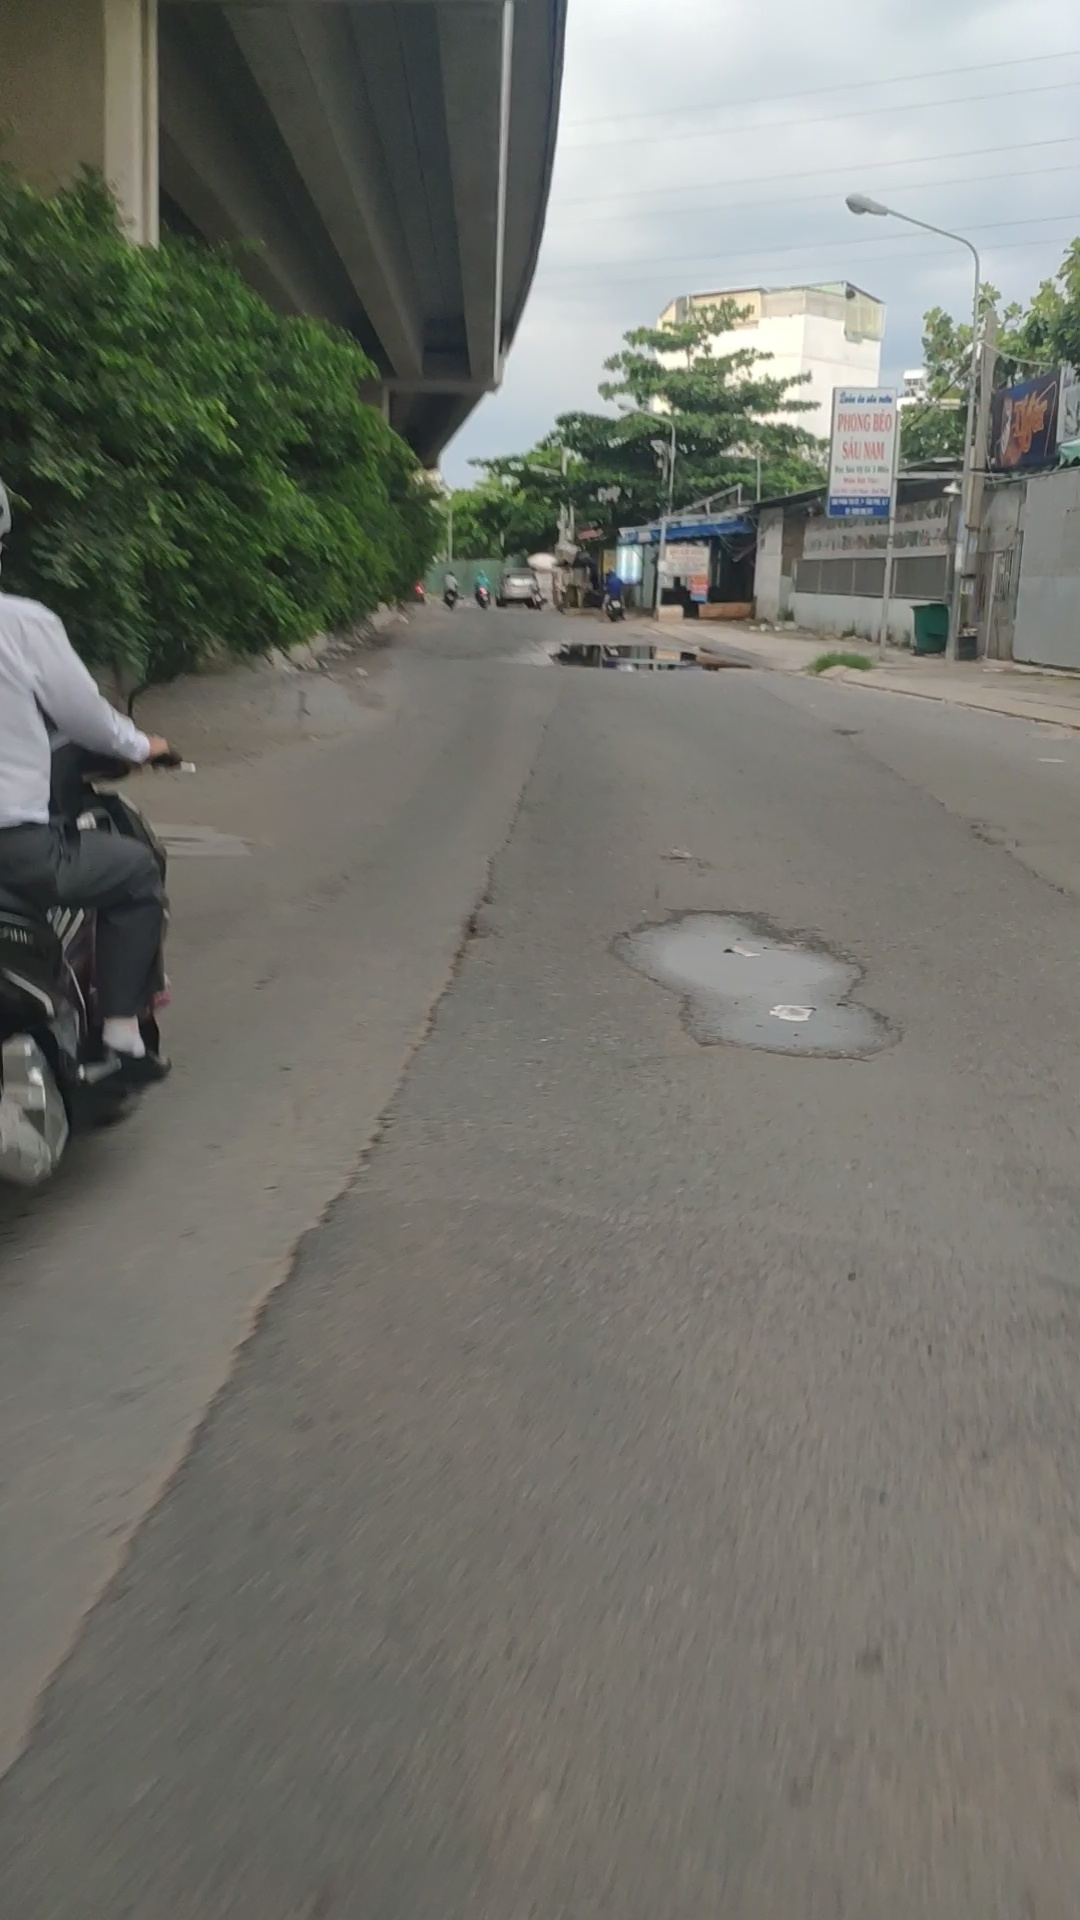hole: (605, 905, 899, 1058), (529, 638, 760, 671), (960, 814, 1027, 851), (451, 916, 504, 943), (828, 723, 865, 737)
